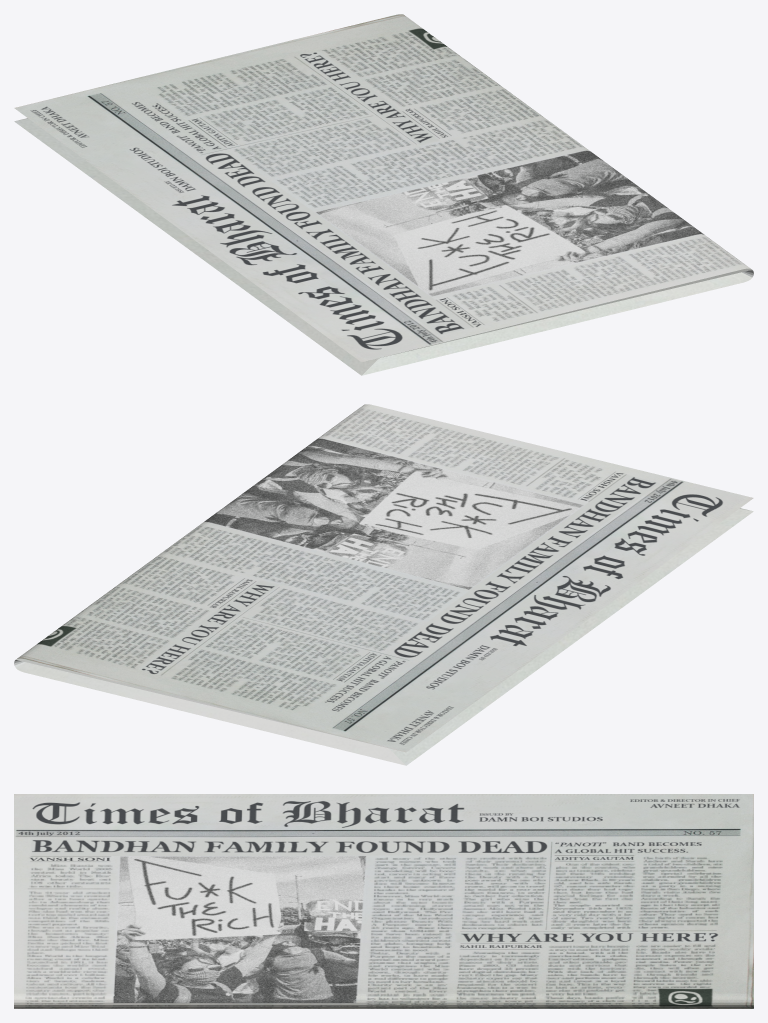
Rendered from Newspaper.glb.
3 views of the same model, one above another, from view 1: azimuth 30°, elevation 25°; view 2: azimuth 150°, elevation 25°; view 3: azimuth 270°, elevation 25° (orthographic). The views are drawn at different scales.
Visible parts, largest first — view 1: Cube; view 2: Cube; view 3: Cube.
Part boxes in pixels (<box>): Cube: <box>14,14,753,375</box>; Cube: <box>14,404,753,765</box>; Cube: <box>14,794,753,1008</box>.
Bounding box in the file's own units: 1.3 × 0.0425 × 2.
Materials: 1 (1 with a texture image).
